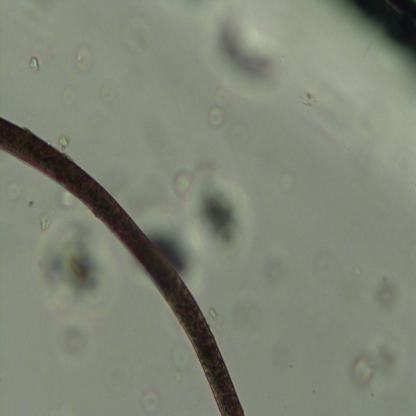Background material: (208, 3, 293, 101), (33, 213, 115, 309), (333, 0, 416, 68), (190, 162, 250, 256), (146, 208, 207, 289), (350, 342, 401, 387), (54, 317, 91, 363), (207, 86, 231, 127), (375, 276, 398, 312), (73, 42, 98, 75), (172, 167, 192, 199), (141, 387, 161, 414), (60, 85, 78, 110), (301, 88, 318, 108), (60, 191, 77, 210), (56, 132, 72, 151), (206, 304, 219, 322), (29, 56, 41, 71), (352, 264, 362, 281)
Microfibre: (0, 115, 247, 415)
